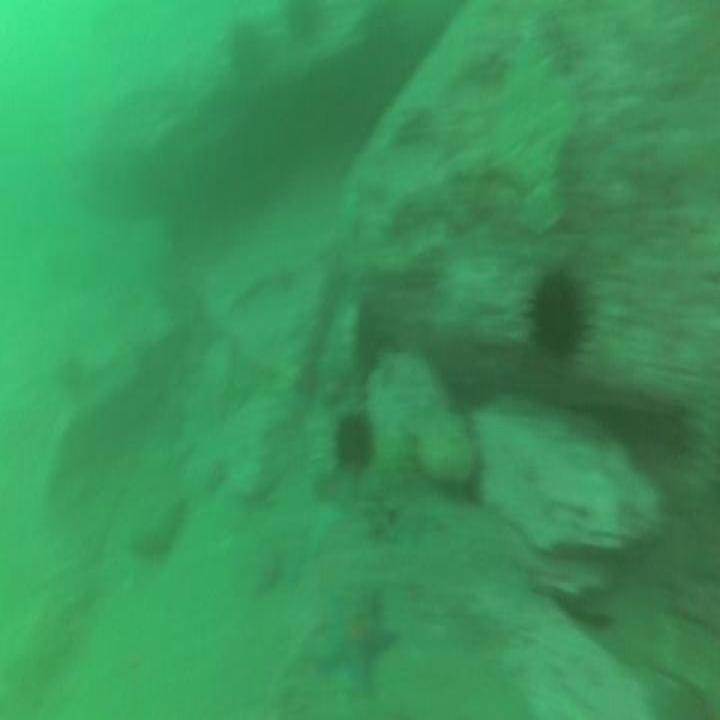echinus: (527, 261, 593, 370), (333, 407, 381, 475), (230, 16, 265, 82), (284, 0, 330, 44)
starfish: (313, 585, 396, 695)
